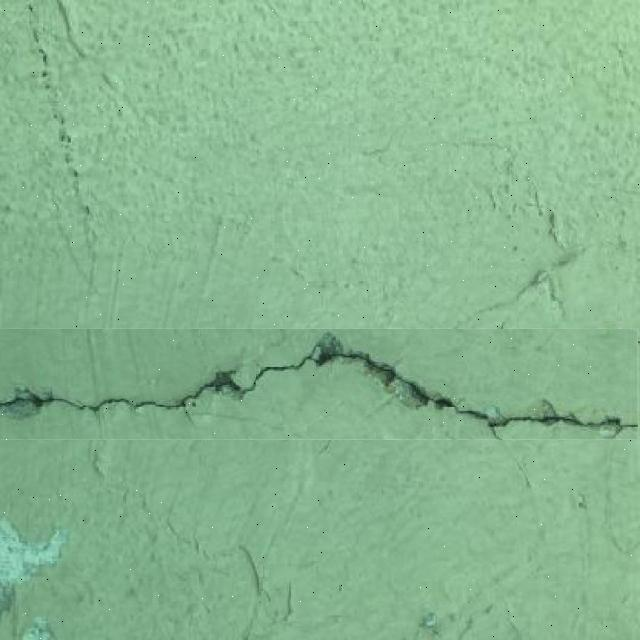crack: (0, 330, 639, 440)
